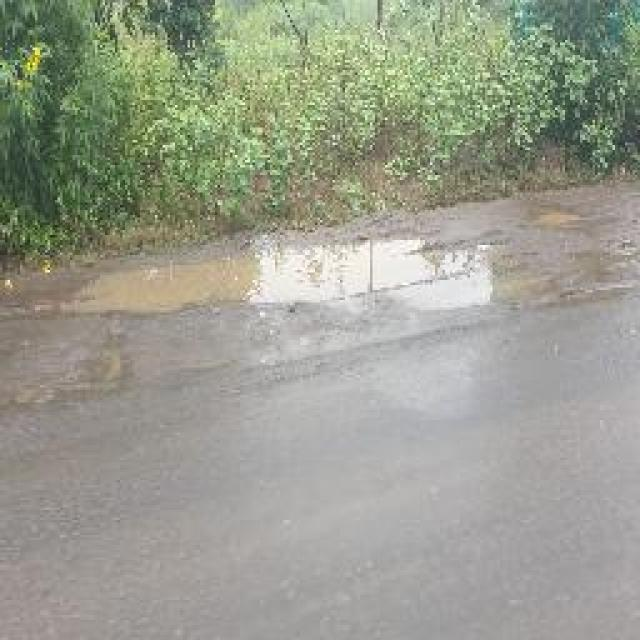puddle: (83, 230, 546, 323)
